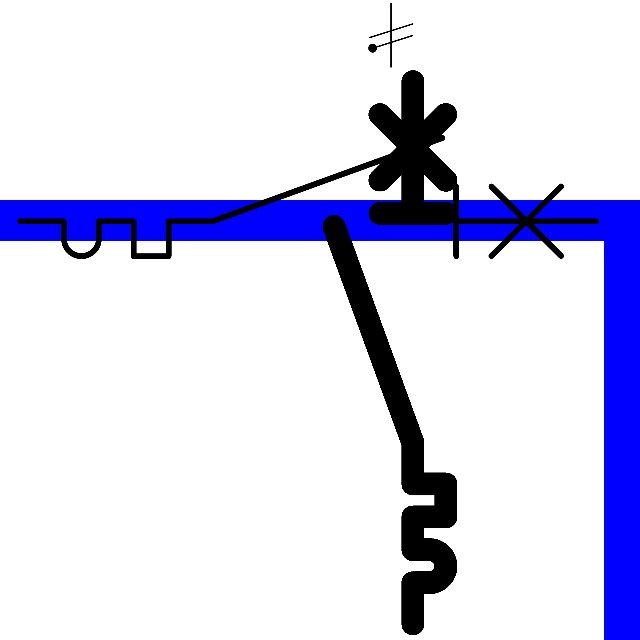interruptor_termomagnetico: (5, 123, 611, 271), (320, 67, 460, 637)
